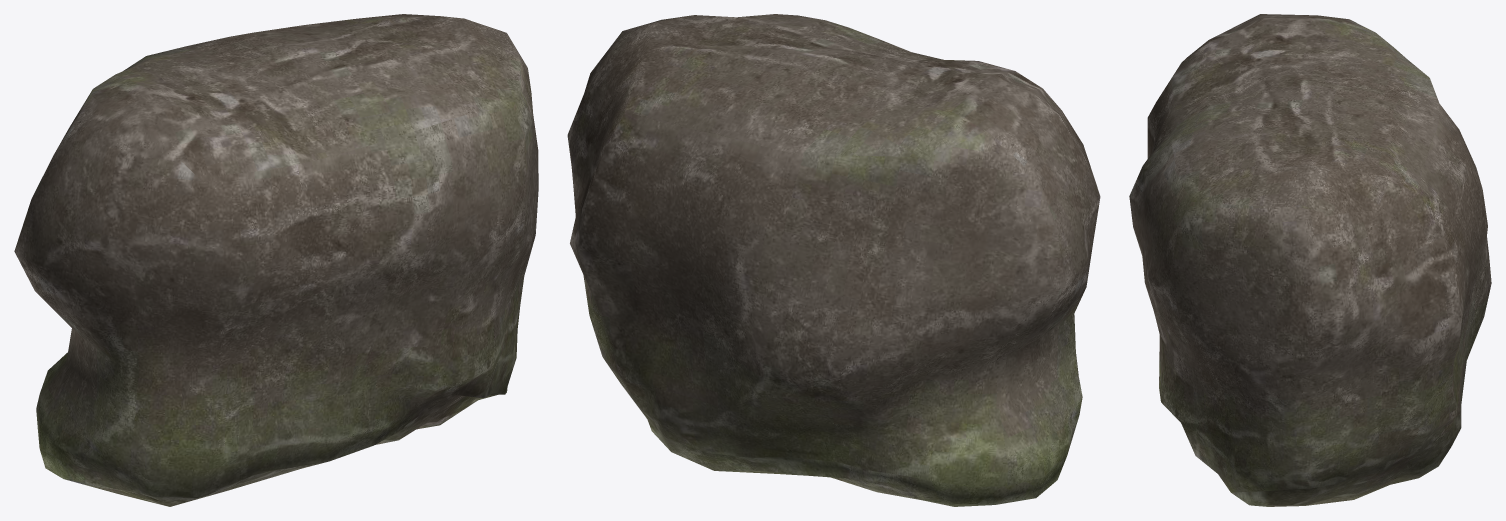
File: Rock_3.glb
3 renders of one model, left to right at view 1: azimuth 30°, elevation 25°; view 2: azimuth 150°, elevation 25°; view 3: azimuth 270°, elevation 25°, orthographic. The views are drawn at different scales.
Parts seen in each view (by area): view 1: Rock_3__LOD3; view 2: Rock_3__LOD3; view 3: Rock_3__LOD3.
Part boxes in pixels (left/top/right/bottom): Rock_3__LOD3: left=14, top=14, right=538, bottom=506; Rock_3__LOD3: left=567, top=14, right=1100, bottom=506; Rock_3__LOD3: left=1129, top=14, right=1491, bottom=506.
Bounding box in the file's own units: 2.72 × 2.03 × 1.82.
1 material, 1 textured.
